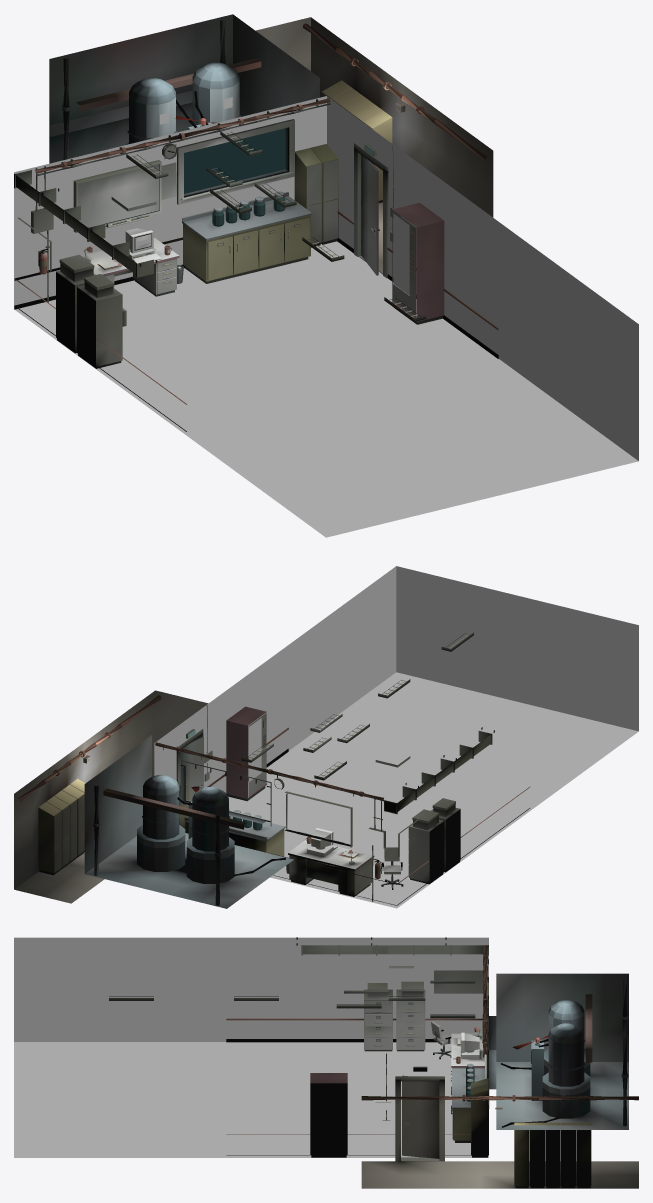
File: office.glb
The picture shows the model from 3 angles, top to bottom: view 1: azimuth 30°, elevation 25°; view 2: azimuth 150°, elevation 25°; view 3: azimuth 270°, elevation 25°; orthographic projection. The views are drawn at different scales.
Visible parts, largest first — view 1: office; view 2: office; view 3: office.
Part boxes in pixels (<box>): office: <box>14,14,638,537</box>; office: <box>14,566,638,908</box>; office: <box>14,937,638,1188</box>.
Bounding box in the file's own units: 13.9 × 5.1 × 25.
